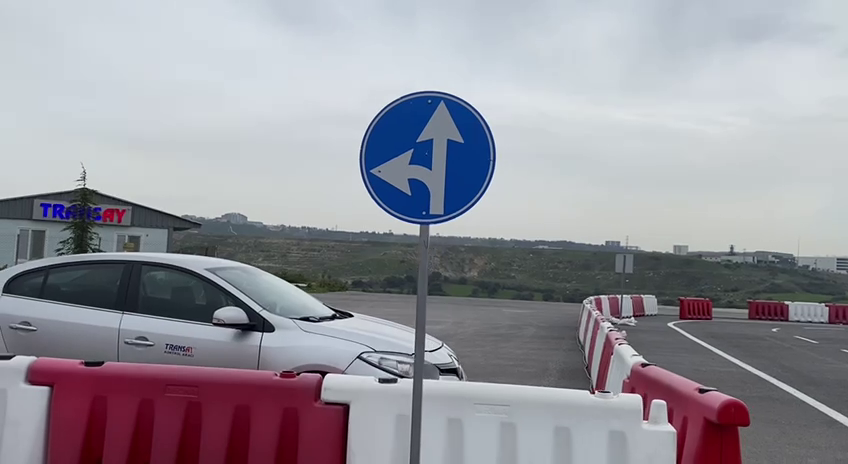forwardAndLeft: (354, 88, 499, 230)
